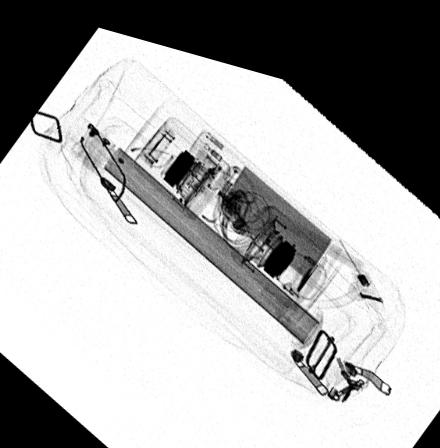Powerbank: (176, 119, 338, 269)
